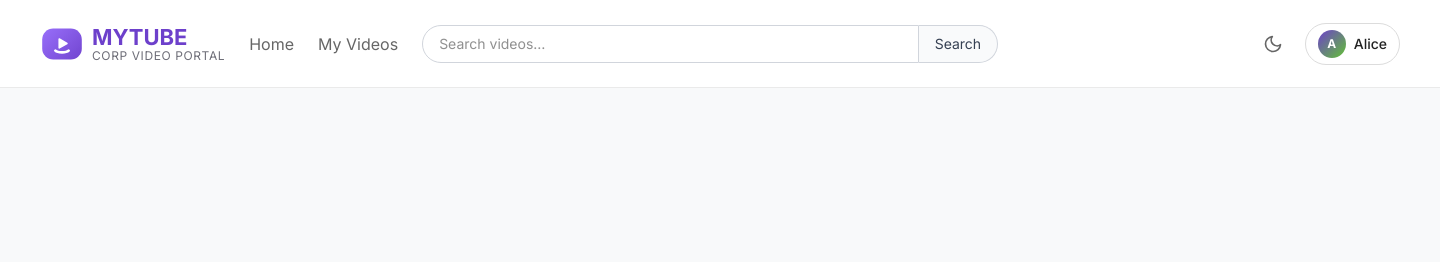
SiteHeader — authenticated › closes dropdown when clicking outside the menu container
The width and height of the screenshot is (1440, 262).
Click the button with aria-label "user menu".
click(1352, 44)  # box [1305,22,1400,64]
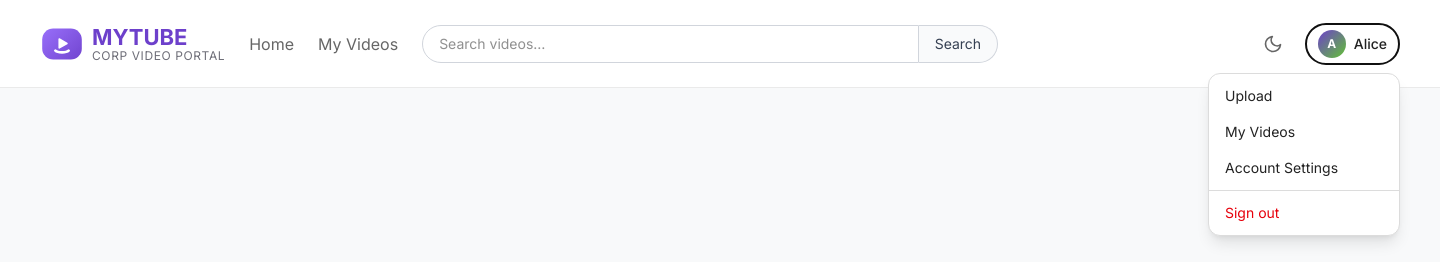
Expected: the menu is shown, [1208,72,1400,236]
Press the mouse on the element that starts with "MYTUBE" at [720, 44], box [0,0,1439,88]
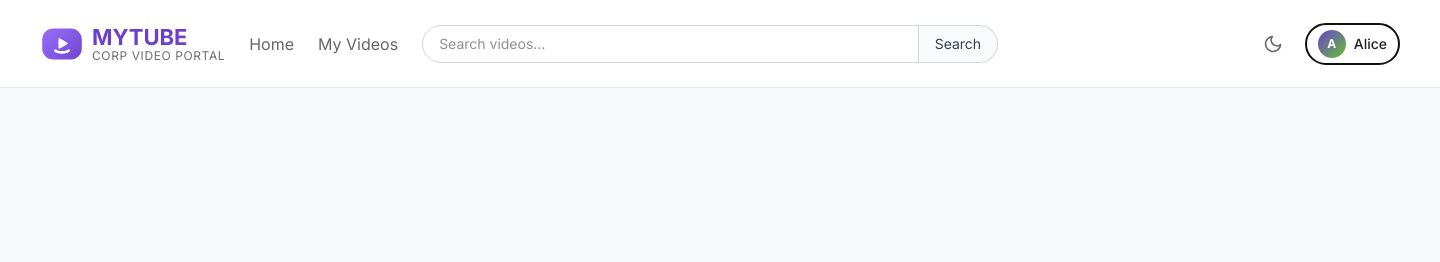
Expected: the menu is gone
